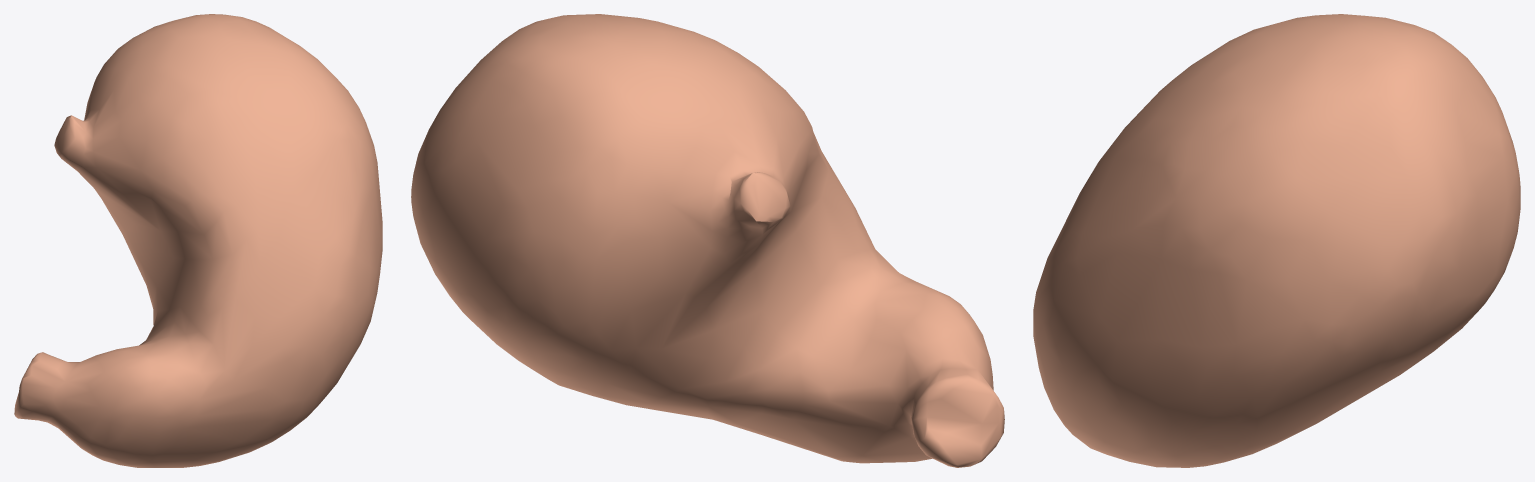
File: stomach.glb
3 renders of one model, left to right at view 1: azimuth 30°, elevation 25°; view 2: azimuth 150°, elevation 25°; view 3: azimuth 270°, elevation 25°, orthographic. The views are drawn at different scales.
Parts seen in each view (by area): view 1: Stomach; view 2: Stomach; view 3: Stomach.
Boxes of the visible parts, left/top/right/bottom form: Stomach: left=14, top=14, right=382, bottom=467; Stomach: left=411, top=14, right=1004, bottom=467; Stomach: left=1033, top=14, right=1520, bottom=467.
Bounding box in the file's own units: 0.1343 × 0.117 × 0.1129.
